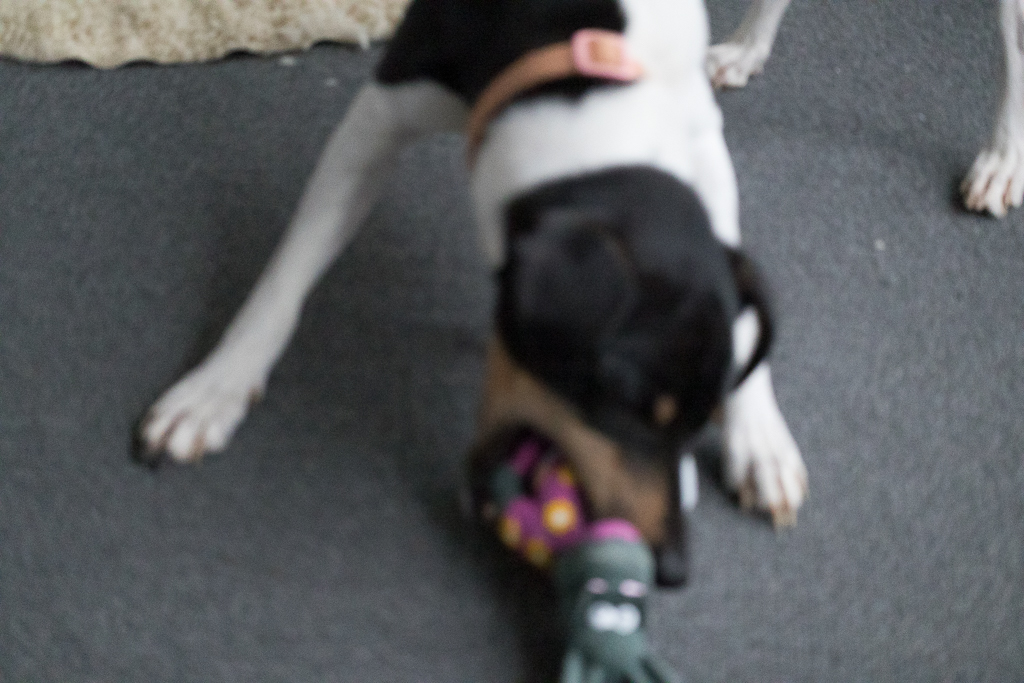Dog: (123, 0, 1024, 549)
Humanoid: (473, 423, 715, 683)
